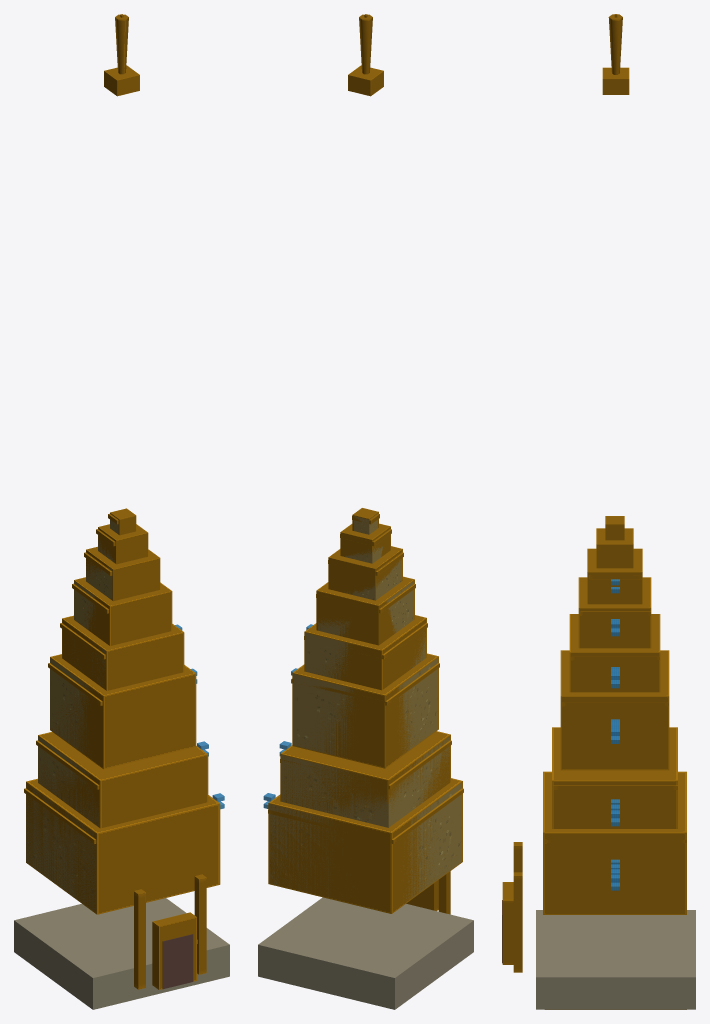
File: asset.glb
3 renders of one model, left to right at view 1: azimuth 30°, elevation 25°; view 2: azimuth 150°, elevation 25°; view 3: azimuth 270°, elevation 25°, orthographic.
Bounding box in the file's own units: 22.2 × 120 × 21.8.
Materials: 13 (9 with a texture image).
